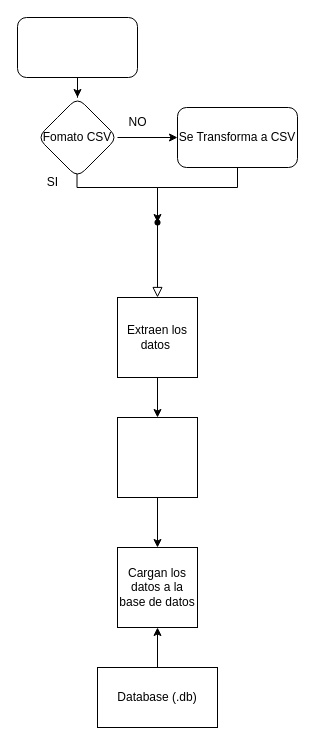
The diagram is 315 pixels wide and 745 high, and some of its shapes have lost their labels. The shapes that lost their labels are listed below. From the top down, each one's centre as x and y in pixels, then its label:
[77,47]: Se crea un Database
[157,457]: Transforman los datos
